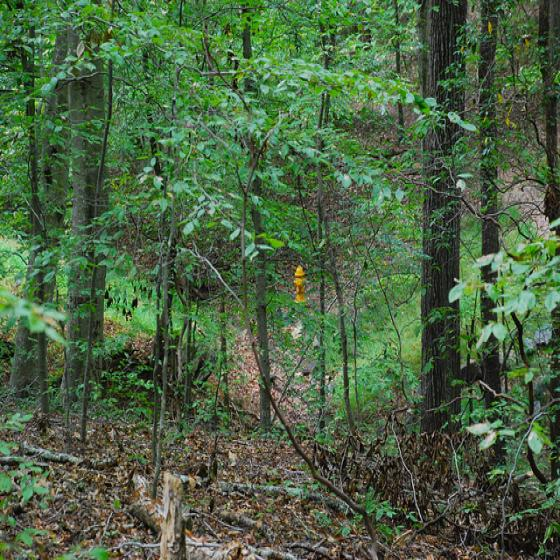fire hydrant: (294, 264, 307, 304)
